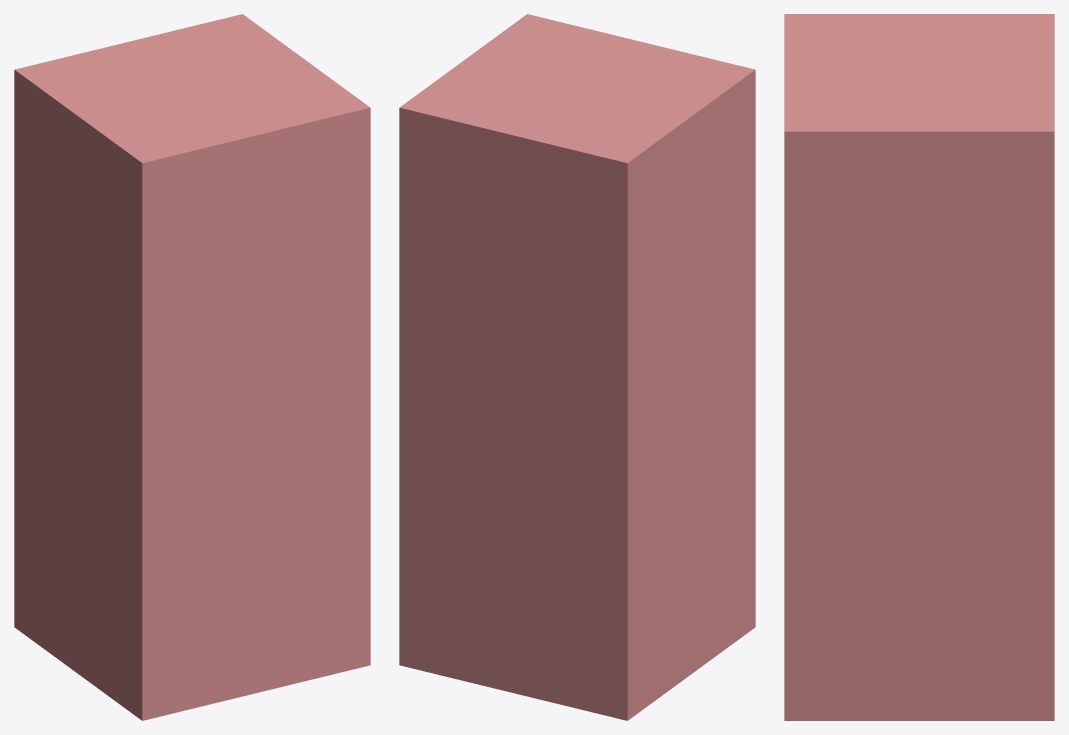
The model's file is watertower_base.DAE.
3 renders of one model, left to right at view 1: azimuth 30°, elevation 25°; view 2: azimuth 150°, elevation 25°; view 3: azimuth 270°, elevation 25°, orthographic. The views are drawn at different scales.
Visible parts, largest first — view 1: bounds; view 2: bounds; view 3: bounds.
Boxes of the visible parts, left/top/right/bottom form: bounds: left=14, top=14, right=370, bottom=720; bounds: left=399, top=14, right=755, bottom=720; bounds: left=784, top=14, right=1054, bottom=720.
Bounding box in the file's own units: 4.41 × 4.28 × 10.3.
